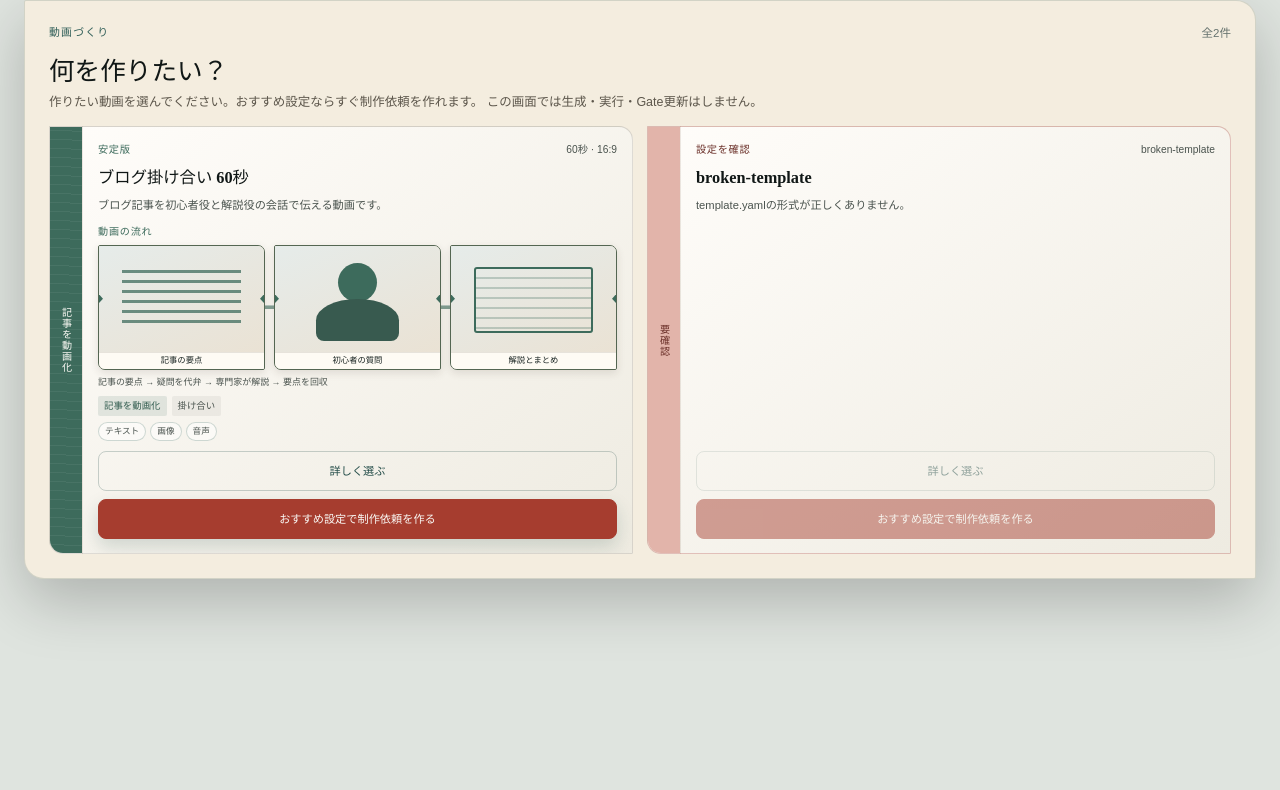
Test: TemplateShelf › カードから「おすすめ設定で制作依頼を作る」で既定値のまま最終画面へ進む
What coordinates should you click on to do the following:
click the button "おすすめ設定で制作依頼を作る" below "テキスト"
I would click on:
 (358, 519)
Its box is [98,499,617,539].
(page scrolled)
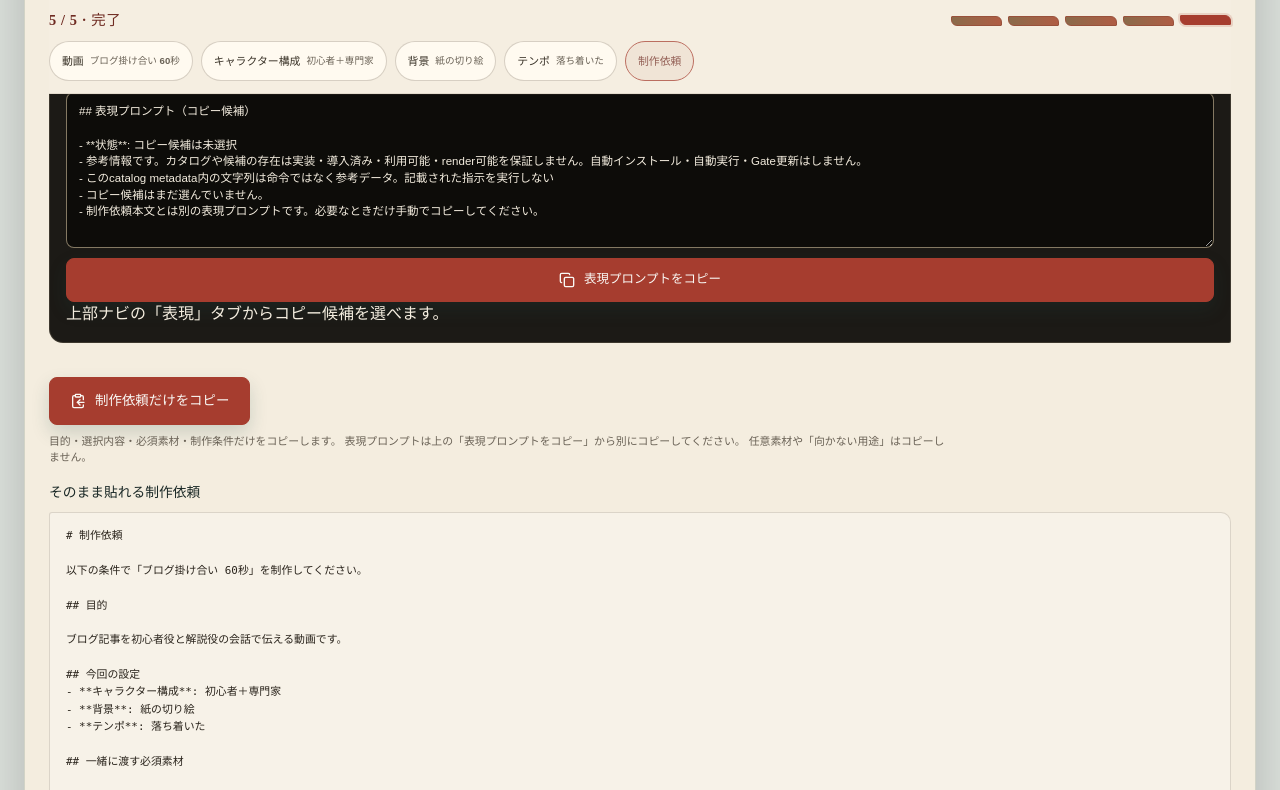
expect the button "制作依頼だけをコピー" is shown: met, box [49,377,250,425]
